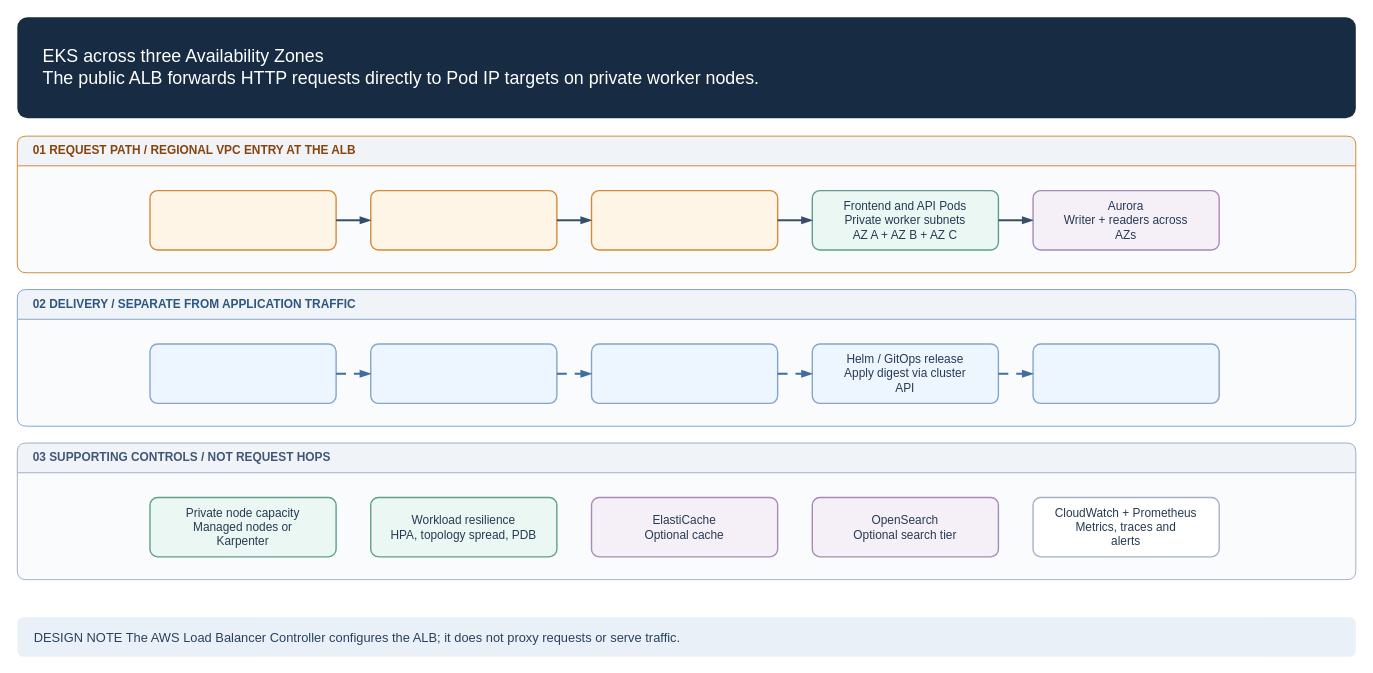
Image size: 1373x673. Some labels were removed from this diagram. The shapes that lost their labels are listed below. From the top down, each one's centre as x and y in pixels, then its label:
pixel 242 219: End users Route 53 resolves edge DNS
pixel 463 219: CloudFront WAF + Shield
pixel 684 219: Application Load Balancer Public subnets across AZs
pixel 242 373: GitHub repository Monorepo + manifests
pixel 463 373: GitHub Actions OIDC; test, scan, sign
pixel 684 373: Amazon ECR Publish immutable image
pixel 1125 373: Managed EKS API Outside worker subnets
